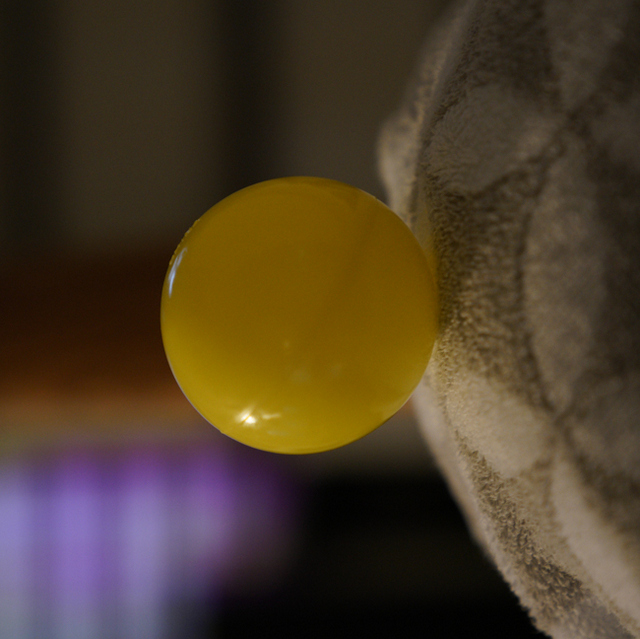Ball: (152, 181, 437, 458)
